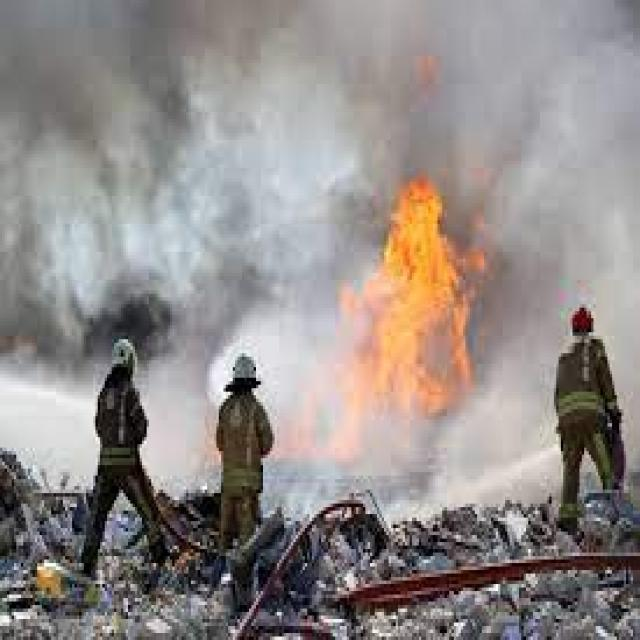fire: (342, 178, 496, 416)
smoke: (2, 3, 340, 370), (340, 3, 640, 304)
